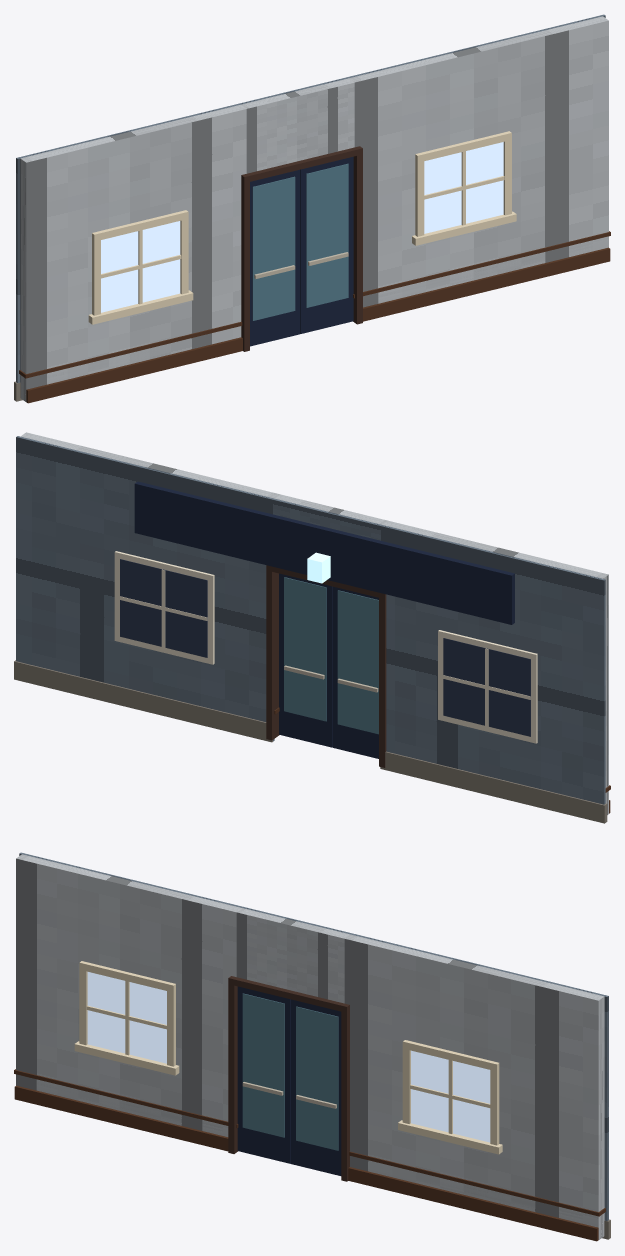
File: front.glb
The picture shows the model from 3 angles, top to bottom: view 1: azimuth 30°, elevation 25°; view 2: azimuth 150°, elevation 25°; view 3: azimuth 330°, elevation 25°; orthographic projection.
Visible parts, largest first — view 1: Box3, Box1, Box5, Box15, Box19, Box31, Box42, Box4, Box18, Box2, Box14, Box48 (+16 smaller); view 2: Box8, Box6, Box22, Box35, Box24, Box19, Box15, Box9, Box7, Box18, Box34, Box23 (+9 smaller); view 3: Box3, Box1, Box5, Box15, Box19, Box31, Box42, Box4, Box14, Box2, Box18, Box48 (+15 smaller).
Part boxes in pixels (box(x1,y1,x2,y2)): Box3: box(349, 16, 608, 307); Box1: box(20, 104, 246, 401); Box5: box(241, 78, 354, 173); Box15: box(252, 176, 295, 320); Box19: box(306, 163, 348, 307); Box31: box(101, 221, 180, 312); Box42: box(424, 142, 503, 233); Box4: box(363, 247, 610, 321); Box18: box(300, 156, 353, 333); Box2: box(26, 337, 242, 403); Box14: box(250, 169, 300, 346); Box48: box(363, 236, 608, 307); Box8: box(16, 436, 274, 741); Box6: box(381, 525, 605, 804); Box22: box(134, 481, 514, 624); Box35: box(120, 559, 207, 657); Box24: box(443, 638, 530, 736); Box19: box(284, 577, 326, 721); Box15: box(337, 590, 378, 734); Box9: box(14, 660, 272, 742); Box7: box(380, 751, 607, 823); Box18: box(279, 573, 332, 747); Box34: box(114, 551, 214, 664); Box23: box(438, 630, 537, 743); Box3: box(344, 934, 604, 1239); Box1: box(16, 854, 242, 1136); Box5: box(236, 908, 349, 1003); Box15: box(242, 993, 284, 1137); Box19: box(296, 1006, 338, 1150); Box31: box(87, 972, 166, 1063); Box42: box(411, 1050, 490, 1142); Box4: box(348, 1167, 598, 1241); Box14: box(237, 986, 290, 1163); Box2: box(14, 1085, 228, 1151); Box18: box(291, 999, 341, 1175); Box48: box(374, 1167, 604, 1239).
Bounding box in the file's own units: 8.77 × 3.44 × 0.605.
Materials: 13 (2 with a texture image).
